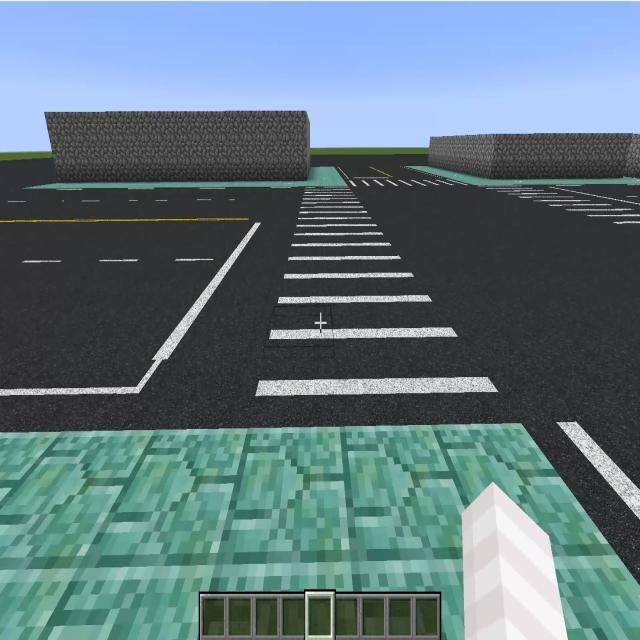crosswalk: (242, 182, 522, 425), (522, 407, 640, 587), (480, 182, 640, 245), (345, 173, 478, 192)
road: (1, 158, 298, 425), (358, 187, 637, 408), (314, 154, 428, 171)
sidewalk: (0, 423, 640, 639), (24, 167, 347, 190), (405, 166, 640, 185)
